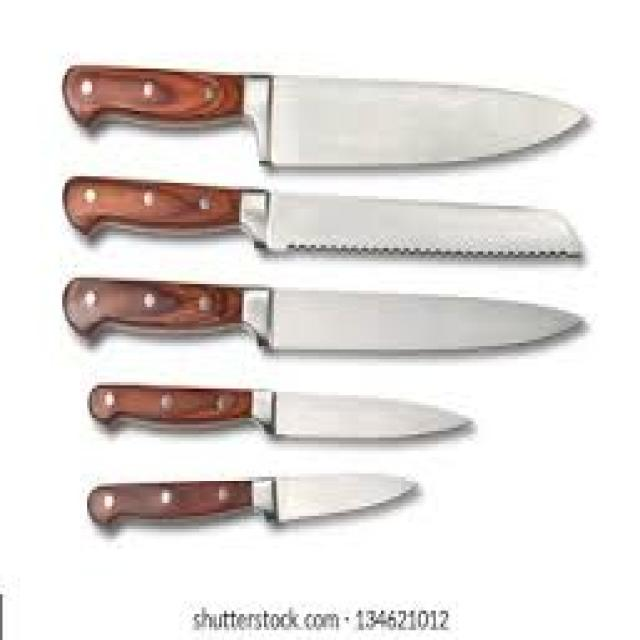Knife: (60, 62, 590, 167), (62, 173, 583, 258), (60, 274, 585, 353), (87, 382, 473, 441), (85, 470, 418, 526)
